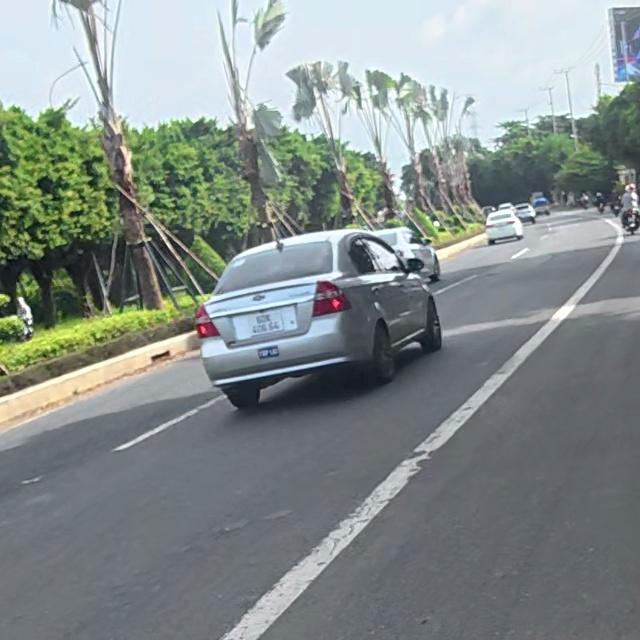license-plate: (246, 308, 299, 335)
